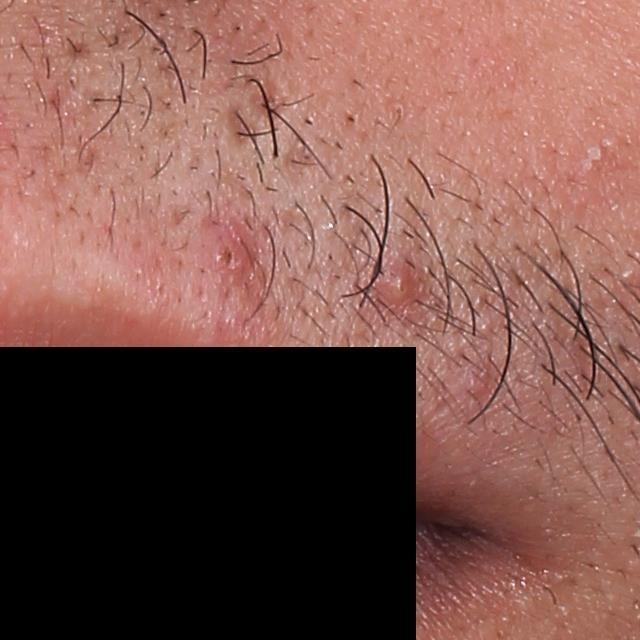atrophic_scar: (280, 132, 317, 199), (225, 106, 258, 150)
papule: (459, 352, 491, 406)
pustule: (379, 264, 415, 311)
